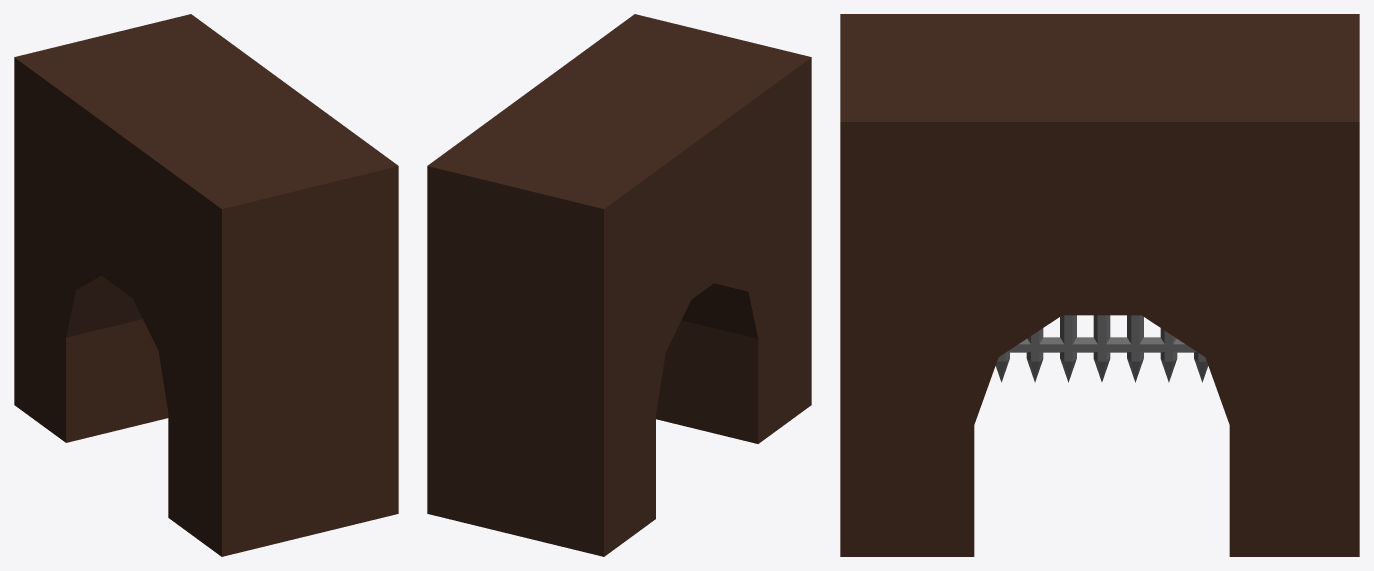
The model's file is PuertaDeRejas.fbx.
The picture shows the model from 3 angles, left to right: view 1: azimuth 30°, elevation 25°; view 2: azimuth 150°, elevation 25°; view 3: azimuth 270°, elevation 25°; orthographic projection. The views are drawn at different scales.
Parts seen in each view (by area): view 1: Cylinder; view 2: Cylinder; view 3: Cylinder, Barrotes.
Boxes of the visible parts, <box> form: Cylinder: <box>14,14,398,556</box>; Cylinder: <box>427,14,811,556</box>; Cylinder: <box>840,14,1359,556</box>; Barrotes: <box>995,315,1208,382</box>.
Bounding box in the file's own units: 1527 × 2867 × 3103.
